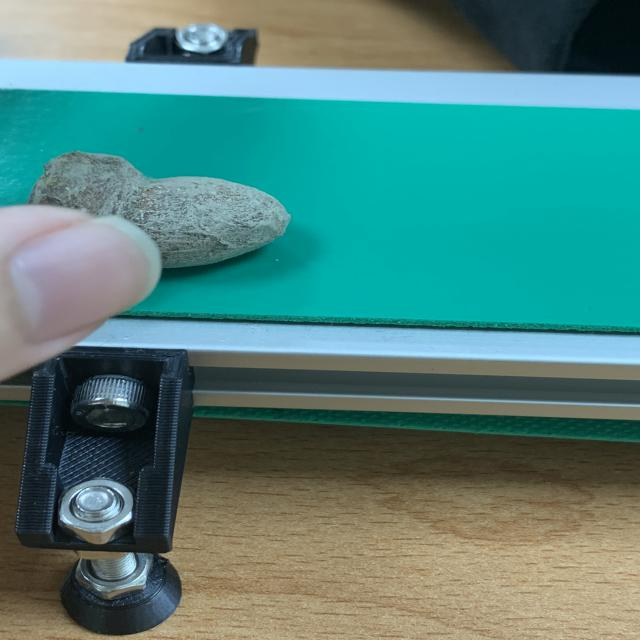Agglomerated_cocoabeans: (0, 138, 356, 302)
